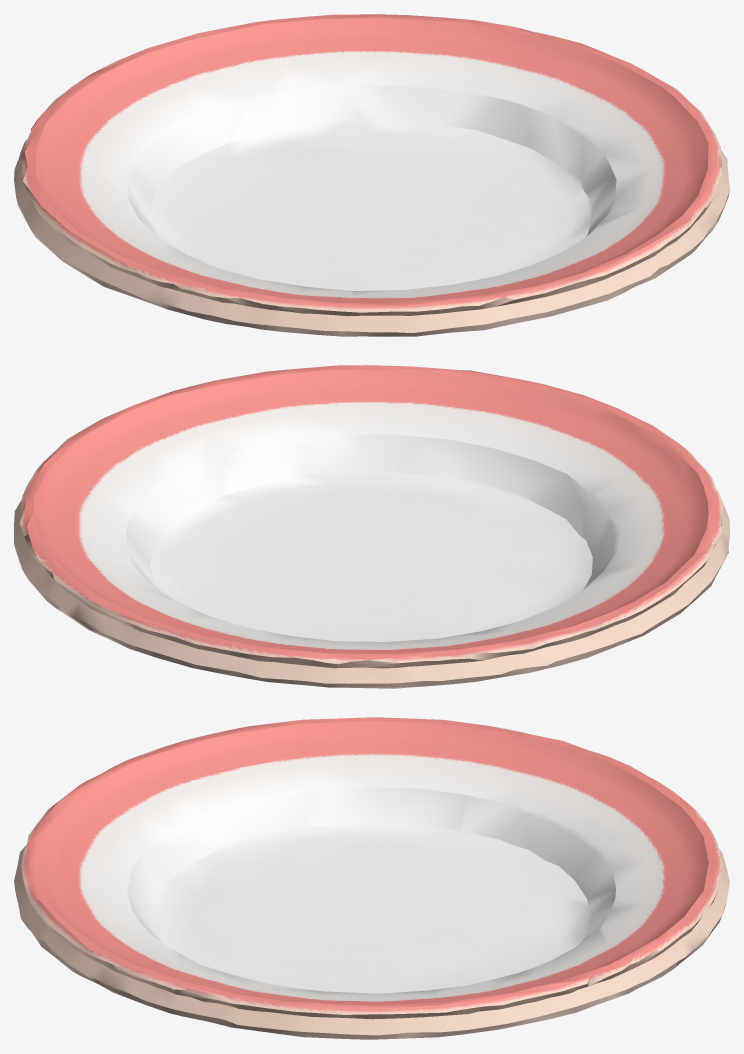
File: TT_PlateRose.glb
The picture shows the model from 3 angles, top to bottom: view 1: azimuth 30°, elevation 25°; view 2: azimuth 150°, elevation 25°; view 3: azimuth 270°, elevation 25°; orthographic projection.
Visible parts, largest first — view 1: geometry_0; view 2: geometry_0; view 3: geometry_0.
Part boxes in pixels (x1,y1,x2,y2): geometry_0: (14,14,729,336); geometry_0: (14,365,729,688); geometry_0: (14,717,729,1039).
Bounding box in the file's own units: 1 × 0.1391 × 0.9987.
1 material, 1 textured.
